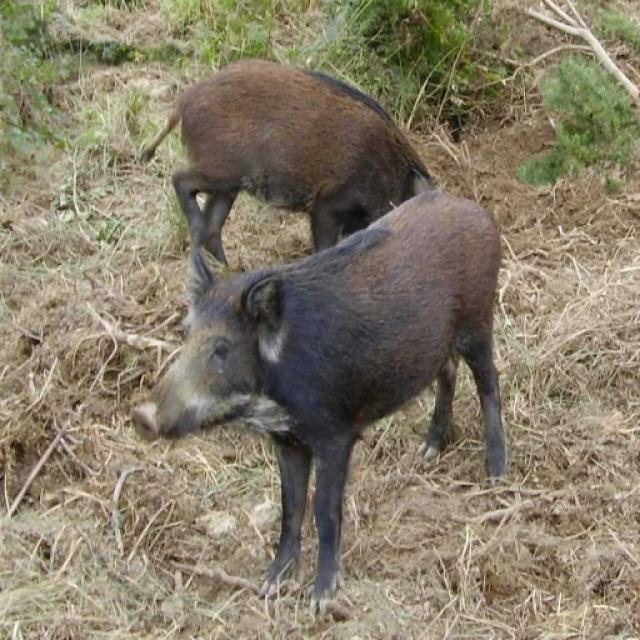pig: (149, 197, 604, 530), (125, 38, 412, 256)
